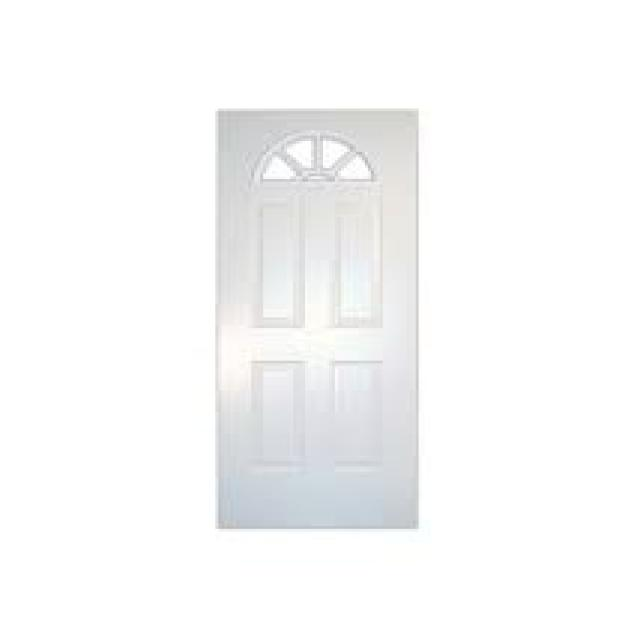door: (215, 108, 419, 529)
